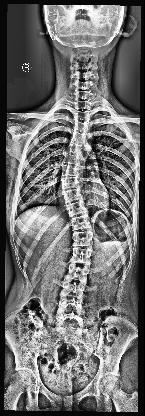Vertebrae: (66, 266, 90, 282), (60, 298, 82, 314), (58, 315, 83, 329), (70, 249, 92, 263), (62, 282, 84, 296), (72, 232, 94, 245), (71, 216, 91, 230), (67, 202, 87, 214), (66, 142, 82, 154), (63, 190, 81, 200), (72, 132, 86, 144), (64, 152, 78, 164), (75, 100, 91, 110), (62, 178, 78, 188), (62, 165, 76, 175), (74, 122, 90, 130), (76, 112, 90, 121)
